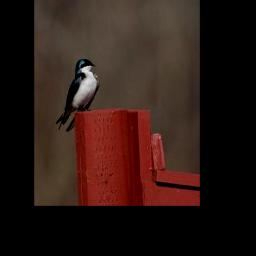Swallow: (56, 57, 100, 131)
